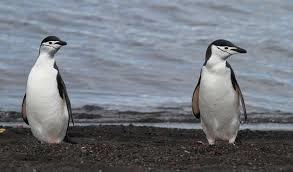chinstrap: (21, 29, 87, 151), (192, 33, 250, 150)
